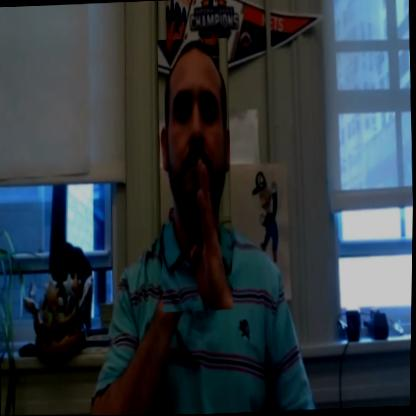Talk: (154, 38, 238, 313)
